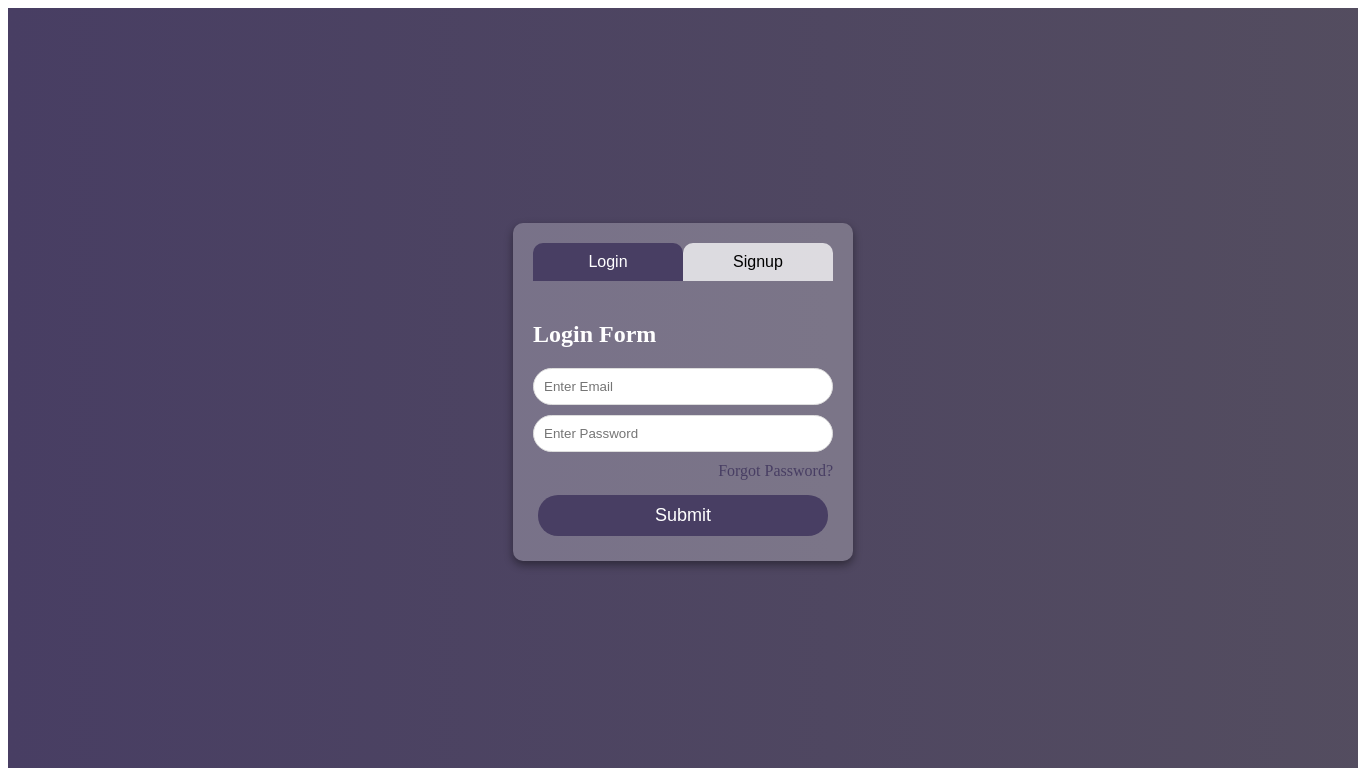
AuthorizationForm Component › switches to signup form on toggle
Click the button "Signup": click(758, 262) 683,243 -> 833,281
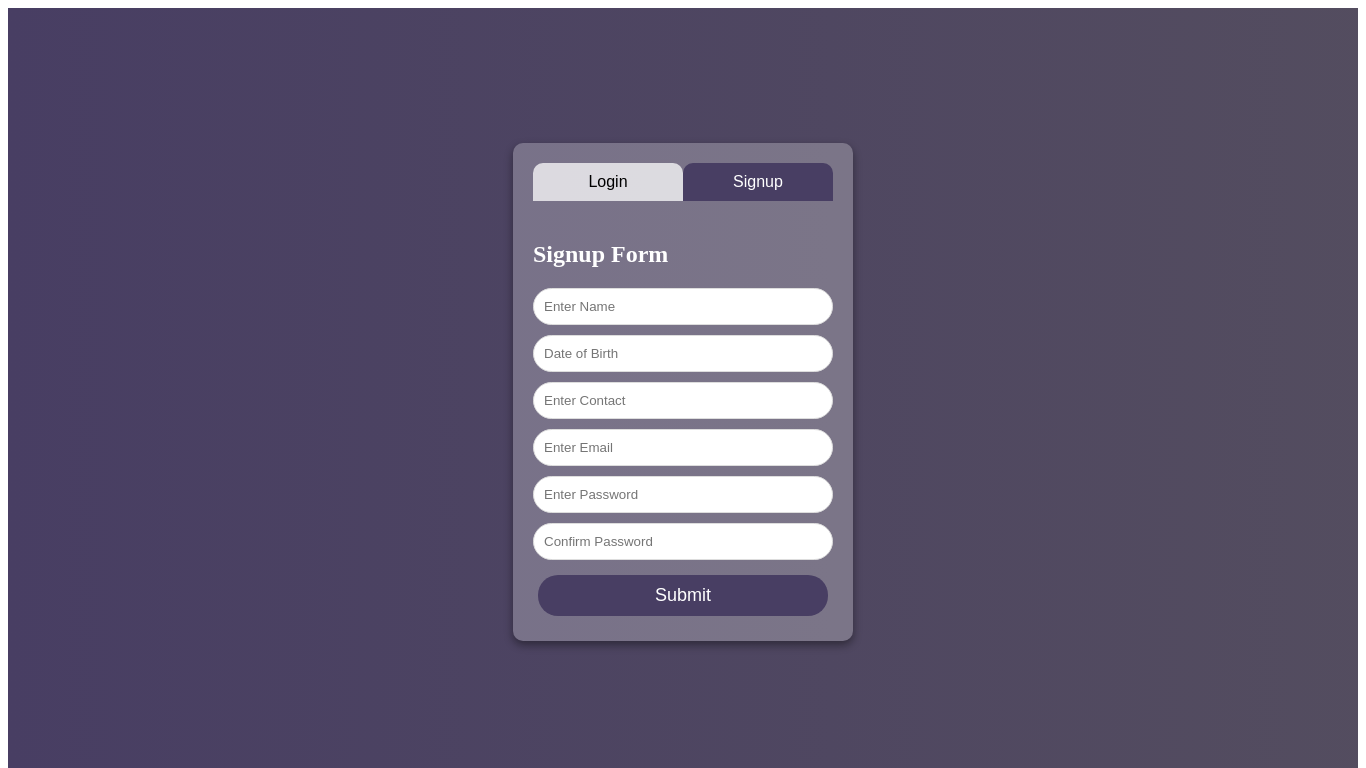
Now the heading "Signup Form" is shown, box 533,241 -> 668,267
Now the field with placeholder "Enter Name" is shown, box 533,288 -> 833,325
Now the field with placeholder "Date of Birth" is shown, box 533,335 -> 833,372
